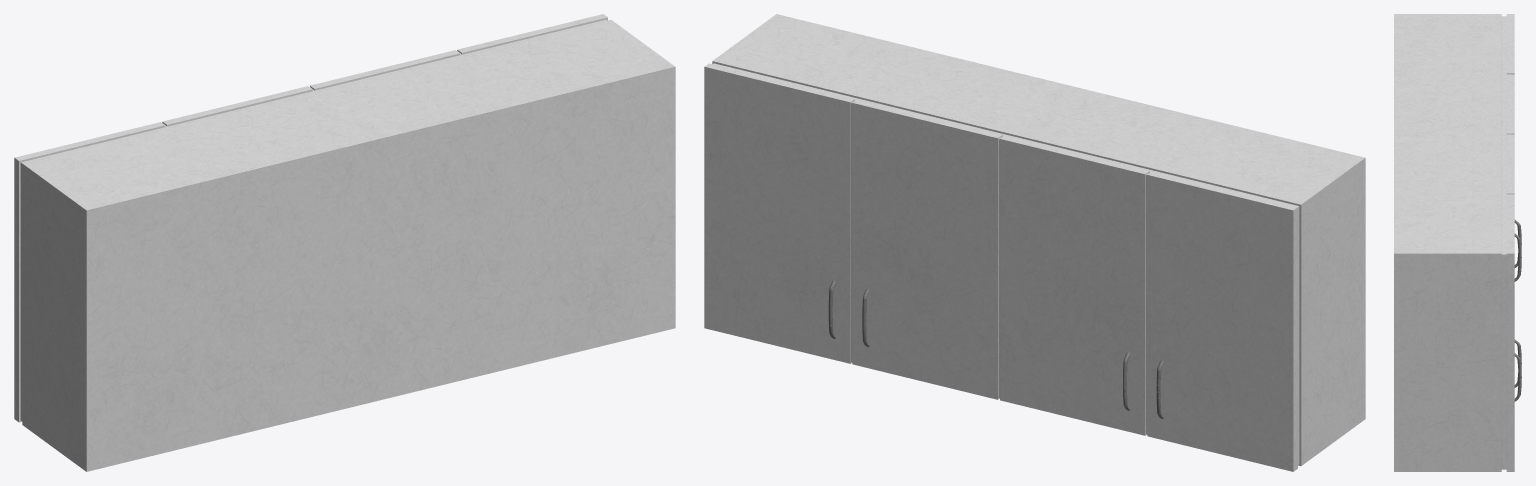
Rendered from encimera4.dae.
The picture shows the model from 3 angles, left to right: view 1: azimuth 30°, elevation 25°; view 2: azimuth 150°, elevation 25°; view 3: azimuth 270°, elevation 25°; orthographic projection. The views are drawn at different scales.
Visible parts, largest first — view 1: Cubo.005; view 2: Cubo.005; view 3: Cubo.005.
Part boxes in pixels (bbox=[...]): Cubo.005: bbox=[14, 14, 675, 471]; Cubo.005: bbox=[704, 14, 1365, 471]; Cubo.005: bbox=[1394, 14, 1521, 471].
Bounding box in the file's own units: 1.65 × 0.3713 × 0.7.
